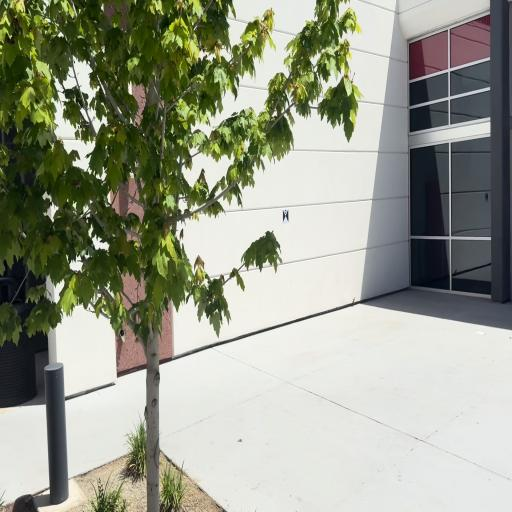target0: (283, 207, 288, 224)
